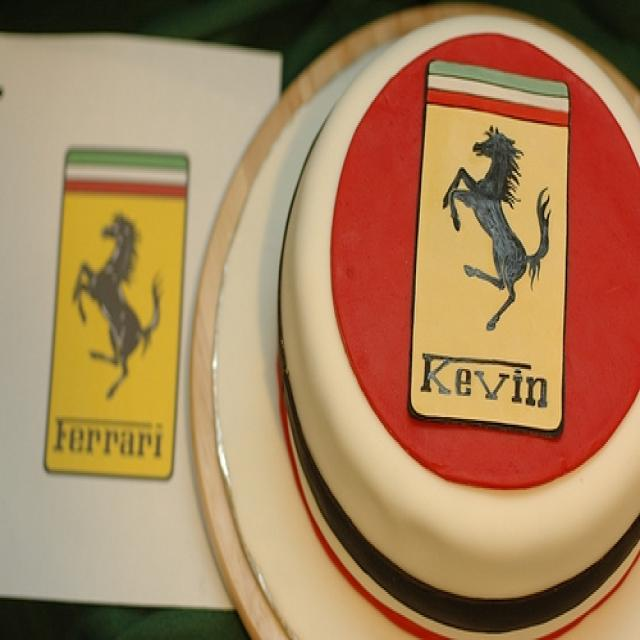ferrari: (42, 149, 190, 483), (413, 61, 571, 370)
